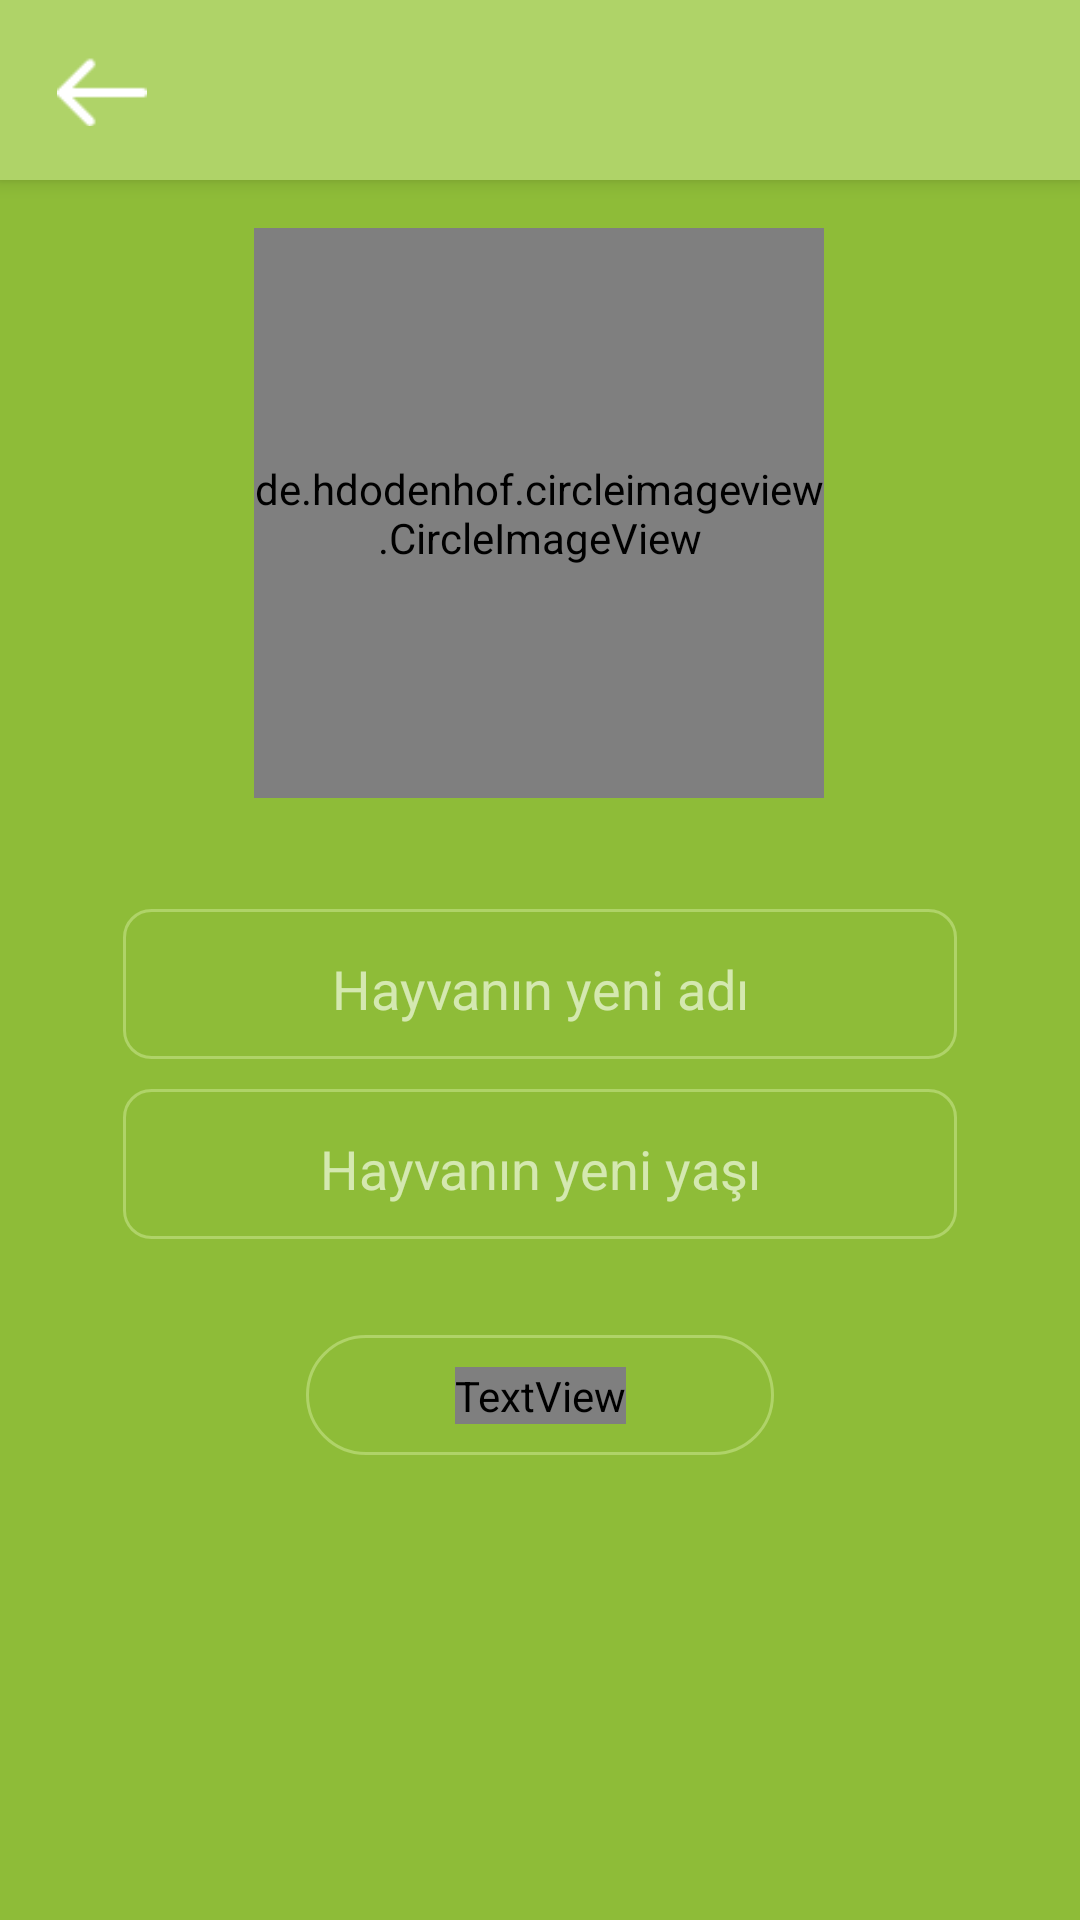

Named icons in this screenshot (1080x1920) and their bounding boxes, (x1, y1, x2, y2):
back: (57, 58, 147, 126)
